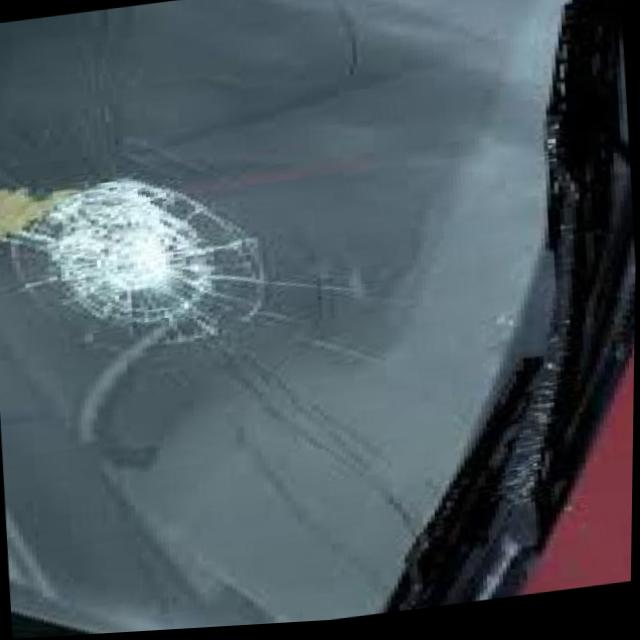Glass_Break: (2, 161, 286, 375)
